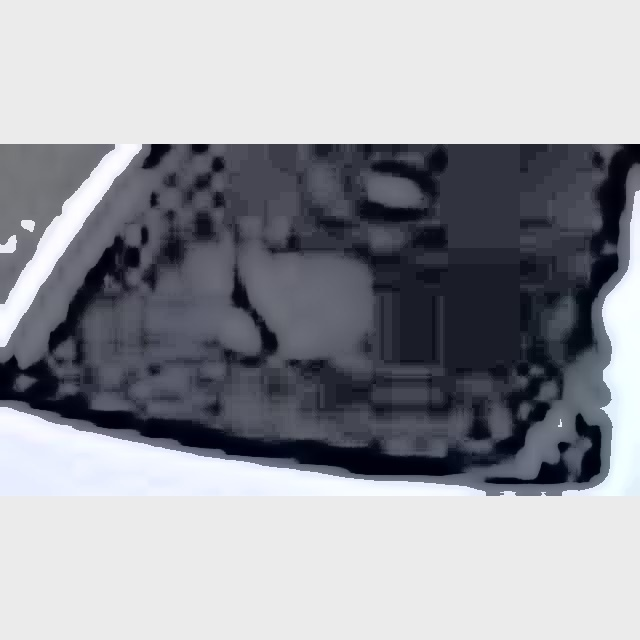pakai: (158, 218, 380, 394)
